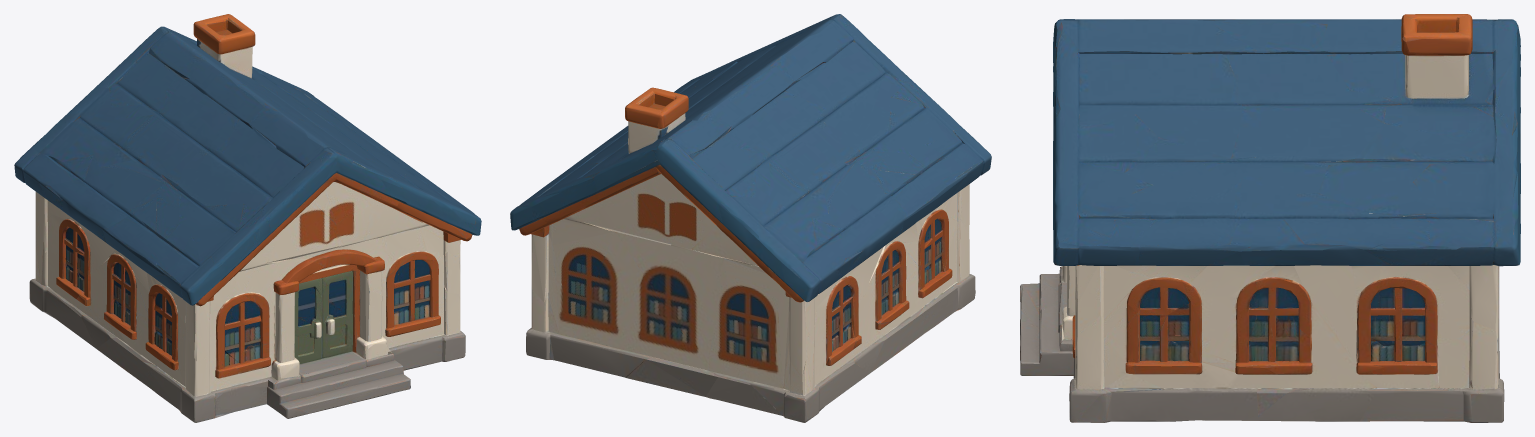
File: museumLibrary.glb
The picture shows the model from 3 angles, left to right: view 1: azimuth 30°, elevation 25°; view 2: azimuth 150°, elevation 25°; view 3: azimuth 270°, elevation 25°; orthographic projection. The views are drawn at different scales.
Visible parts, largest first — view 1: Mesh_0; view 2: Mesh_0; view 3: Mesh_0.
Part boxes in pixels (bbox=[...]): Mesh_0: bbox=[14, 14, 481, 422]; Mesh_0: bbox=[510, 14, 991, 422]; Mesh_0: bbox=[1020, 14, 1520, 422].
Size of the model in its own units: 2.68 by 2.21 by 3.
Materials: 1 (1 with a texture image).
